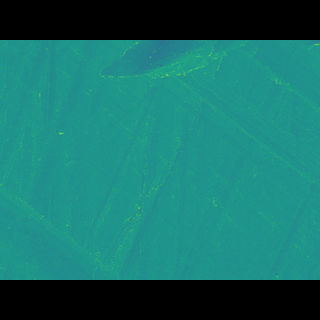Loch: (126, 97, 320, 198), (0, 179, 121, 248), (98, 69, 257, 100)
